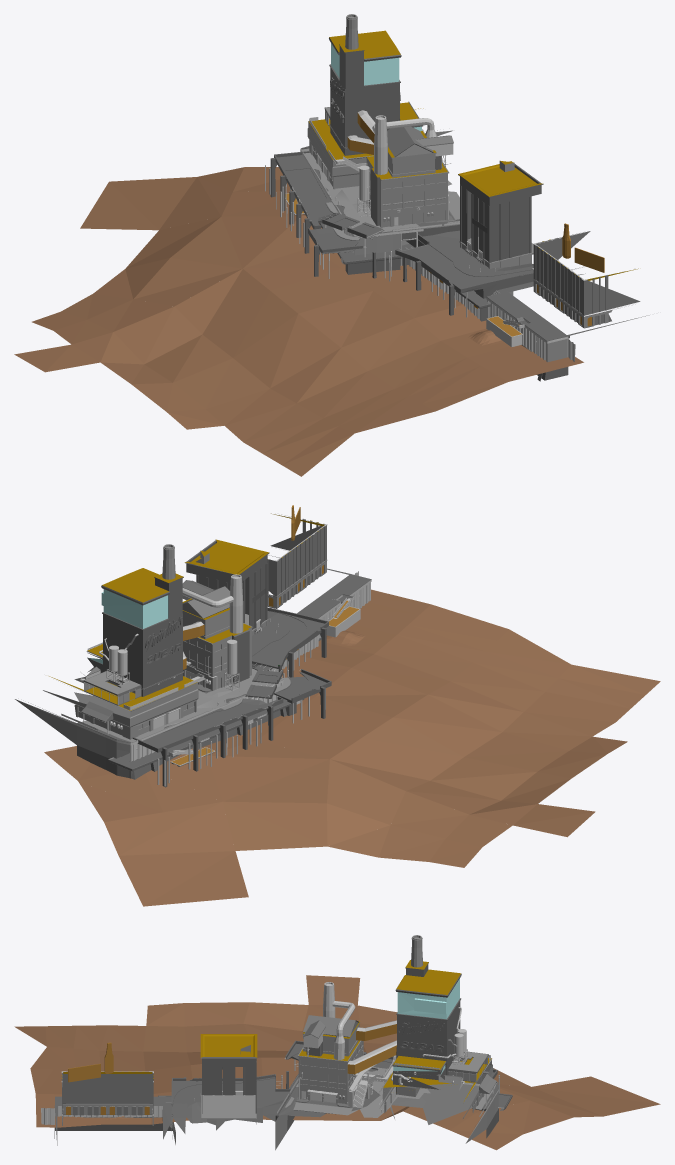
The model's file is brook_n_12.FBX.
The picture shows the model from 3 angles, top to bottom: view 1: azimuth 30°, elevation 25°; view 2: azimuth 150°, elevation 25°; view 3: azimuth 270°, elevation 25°; orthographic projection. The views are drawn at different scales.
Parts seen in each view (by area): view 1: unnamed, null; view 2: unnamed, null; view 3: unnamed, null.
Boxes of the visible parts, box(x1,y1,x2,y2) form: unnamed: box(14, 14, 649, 476); null: box(80, 167, 291, 230); unnamed: box(15, 505, 660, 867); null: box(78, 759, 248, 906); unnamed: box(14, 935, 530, 1150); null: box(476, 1076, 660, 1134).
Size of the model in its own units: 208 by 95.43 by 257.
